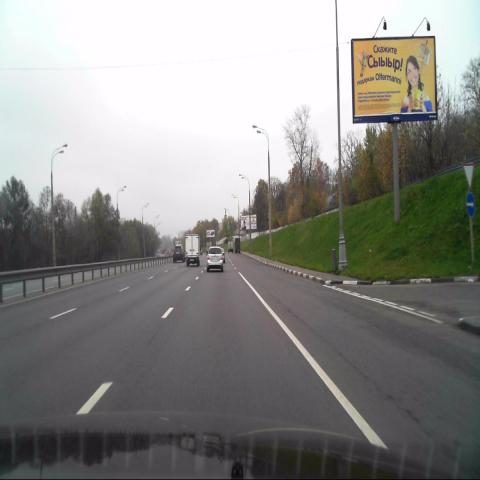4_1_2_1: (466, 193, 476, 218)
